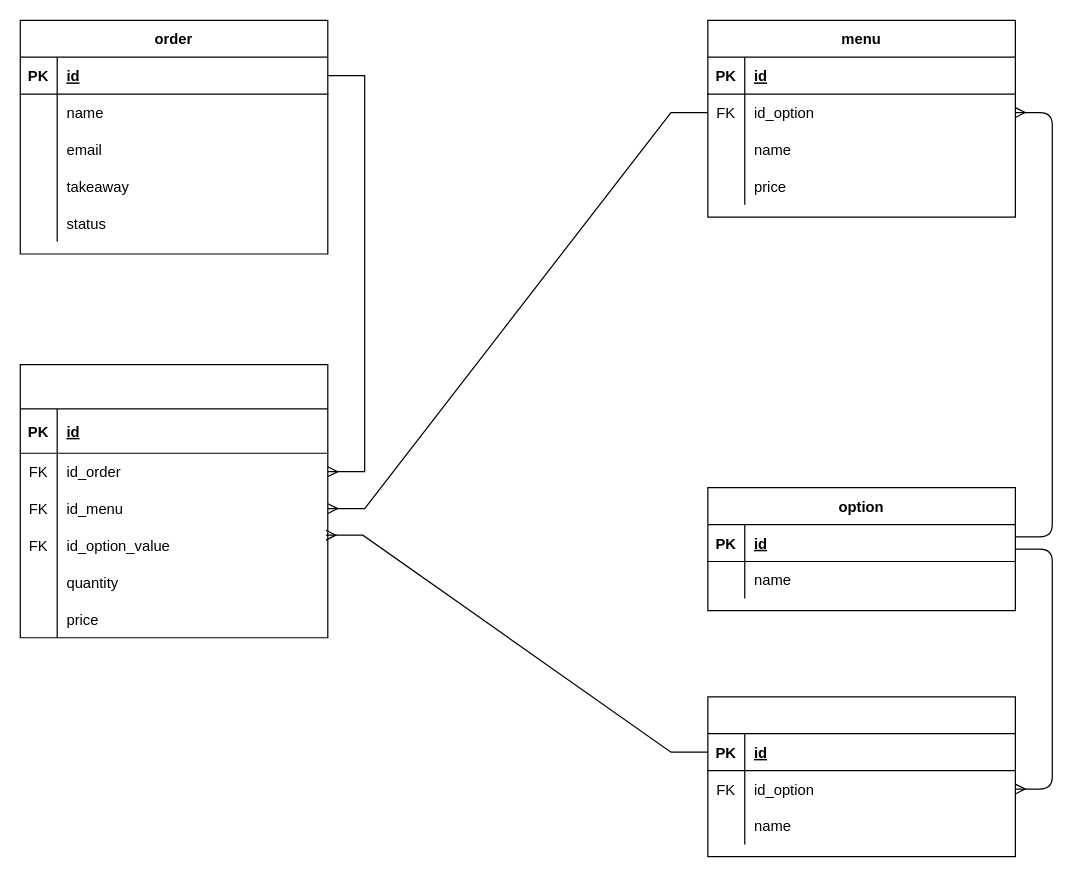
This 1073x877 diagram has some shape labels left out. Here are the shapes that lost their labels. From the top down, the box of each, then its label:
(19, 363, 328, 638): order_item
(707, 696, 1015, 857): option_value
